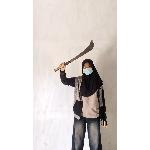Golok: (53, 37, 100, 75)
